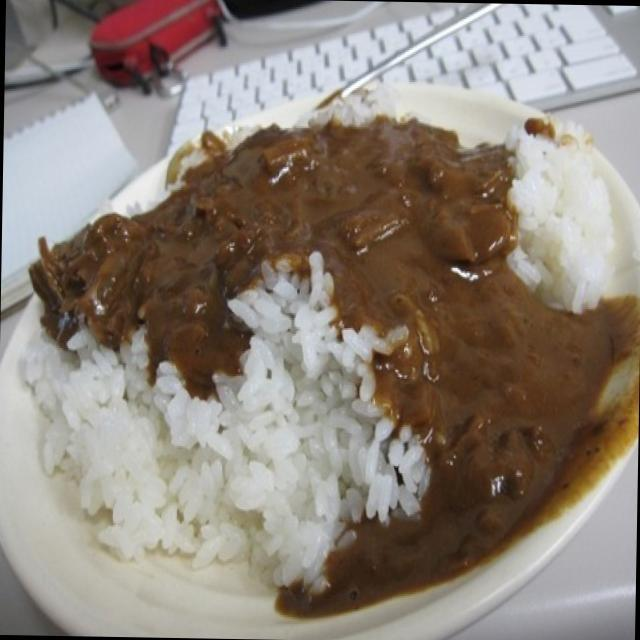Beef Curry: (94, 124, 472, 346)
Rice: (46, 349, 366, 563)
